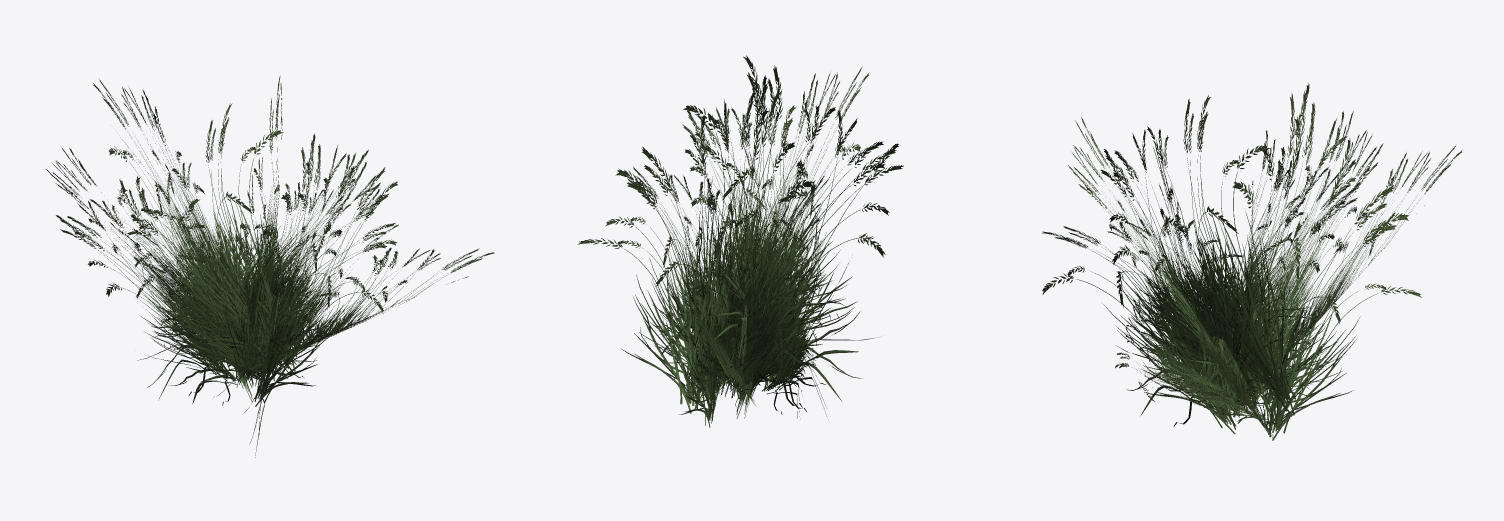
File: Grass_44.fbx
3 views of the same model, side by side, from view 1: azimuth 30°, elevation 25°; view 2: azimuth 150°, elevation 25°; view 3: azimuth 270°, elevation 25° (orthographic). The views are drawn at different scales.
Visible parts, largest first — view 1: Grass_44; view 2: Grass_44; view 3: Grass_44.
Part boxes in pixels (<box>): Grass_44: <box>46,75,494,457</box>; Grass_44: <box>577,55,903,427</box>; Grass_44: <box>1041,83,1462,440</box>.
Bounding box in the file's own units: 4181 × 4712 × 4676.
